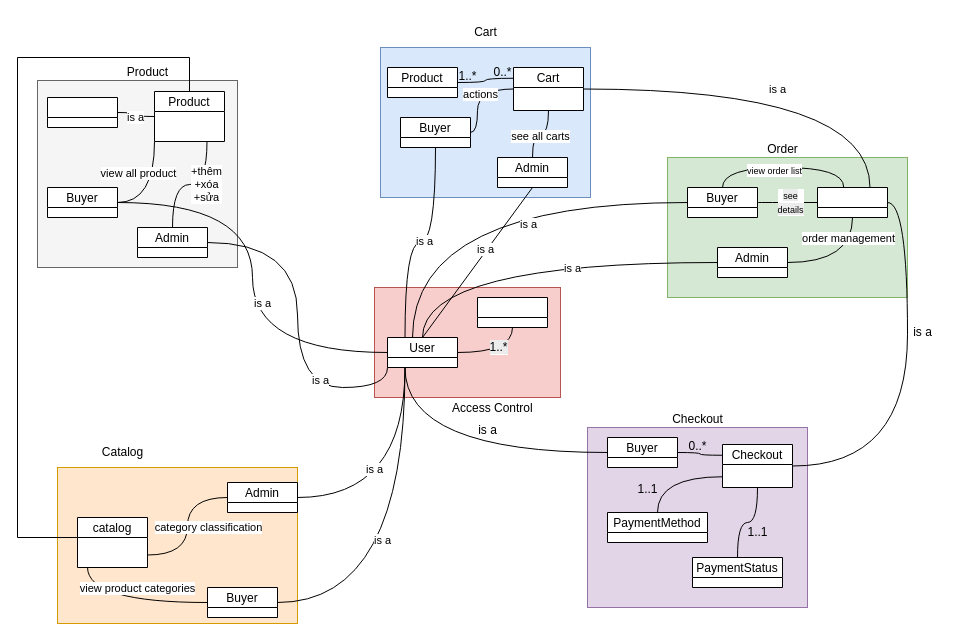
This 960x641 diagram has some shape labels left out. The centre of each missing label's shape, as x and y in pixels:
"hot product" belongs at pixel 82 112.
"oder" belongs at pixel 852 202.
"Role" belongs at pixel 512 312.
